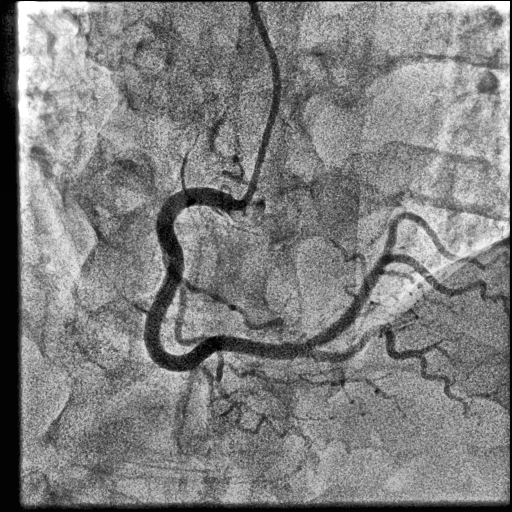pborca: (306, 212, 484, 349)
pda: (304, 324, 469, 419)
rca: (144, 187, 313, 372)
